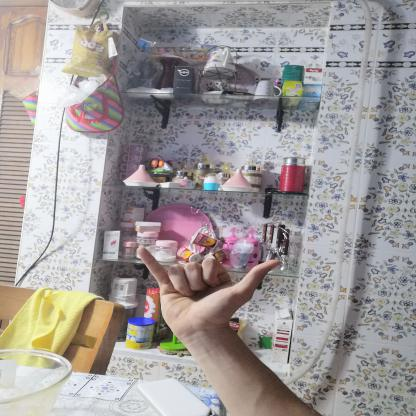YA: (125, 238, 292, 346)
